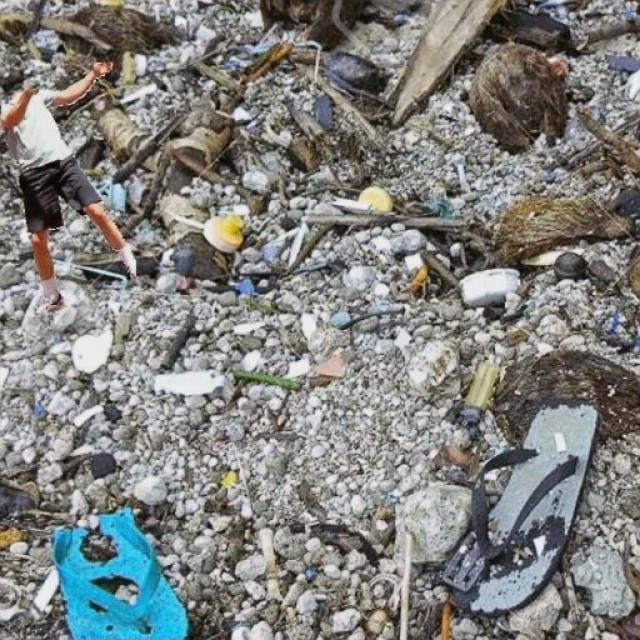Person in Rubble: (1, 62, 135, 312)
